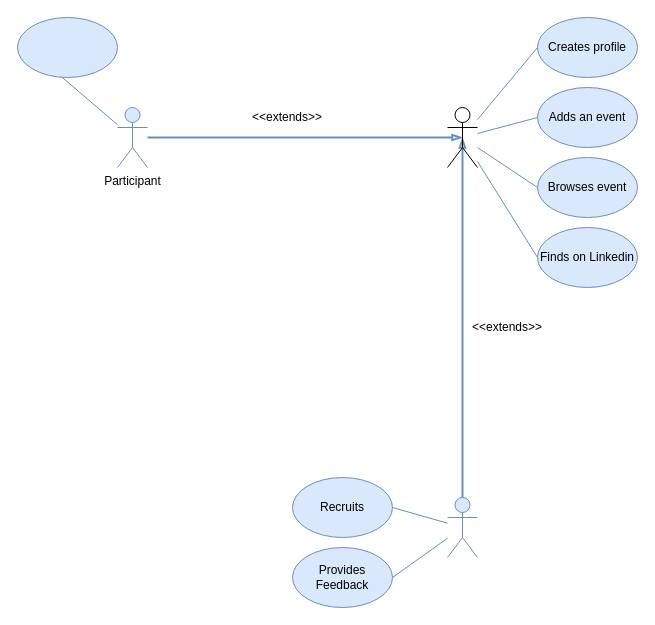
The diagram is 655 pixels wide and 625 high, and some of its shapes have lost their labels. Each missing label, with the centre of its shape:
"Company" belongs at point (462, 527).
"Generic User" belongs at point (462, 137).
"Pitches" belongs at point (67, 47).
